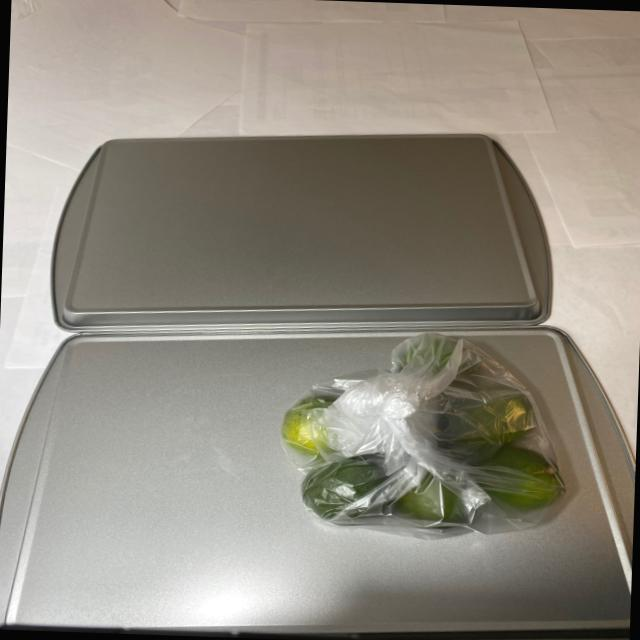lemon: (269, 328, 574, 532)
